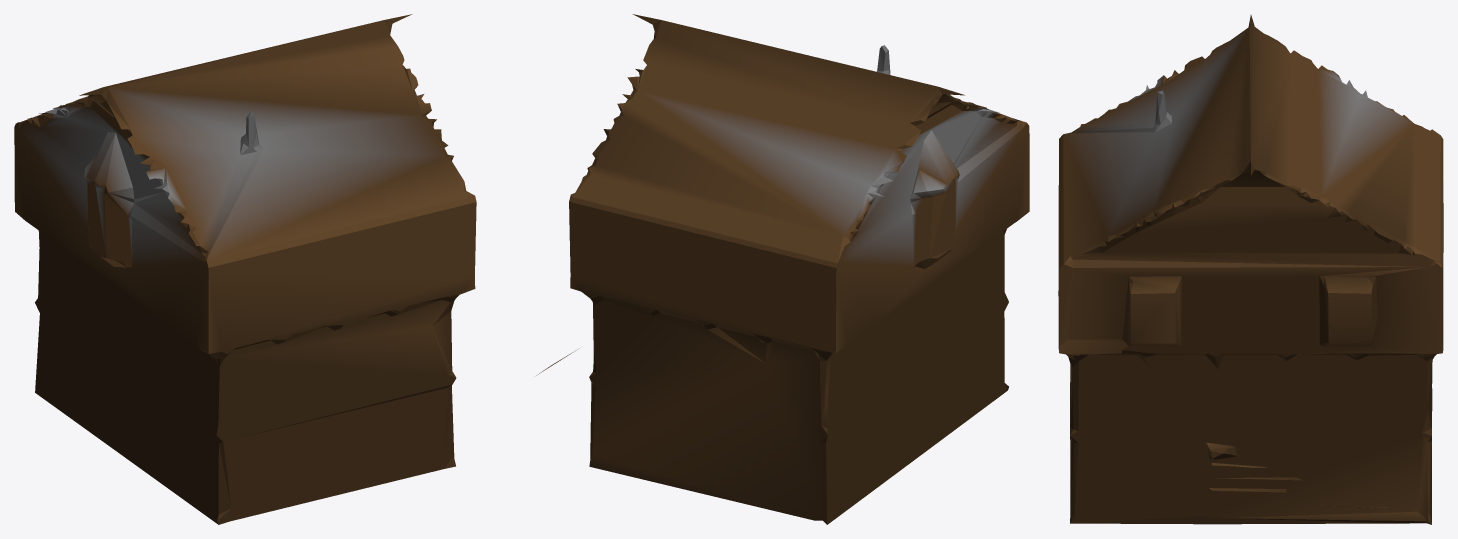
File: Medieval Houses(2).glb
3 renders of one model, left to right at view 1: azimuth 30°, elevation 25°; view 2: azimuth 150°, elevation 25°; view 3: azimuth 270°, elevation 25°, orthographic.
Parts seen in each view (by area): view 1: Root; view 2: Root; view 3: Root.
Boxes of the visible parts, <box> form: Root: <box>14,14,476,524</box>; Root: <box>536,14,1029,524</box>; Root: <box>1058,15,1443,524</box>.
Bounding box in the file's own units: 12.61 × 12.15 × 11.34.
